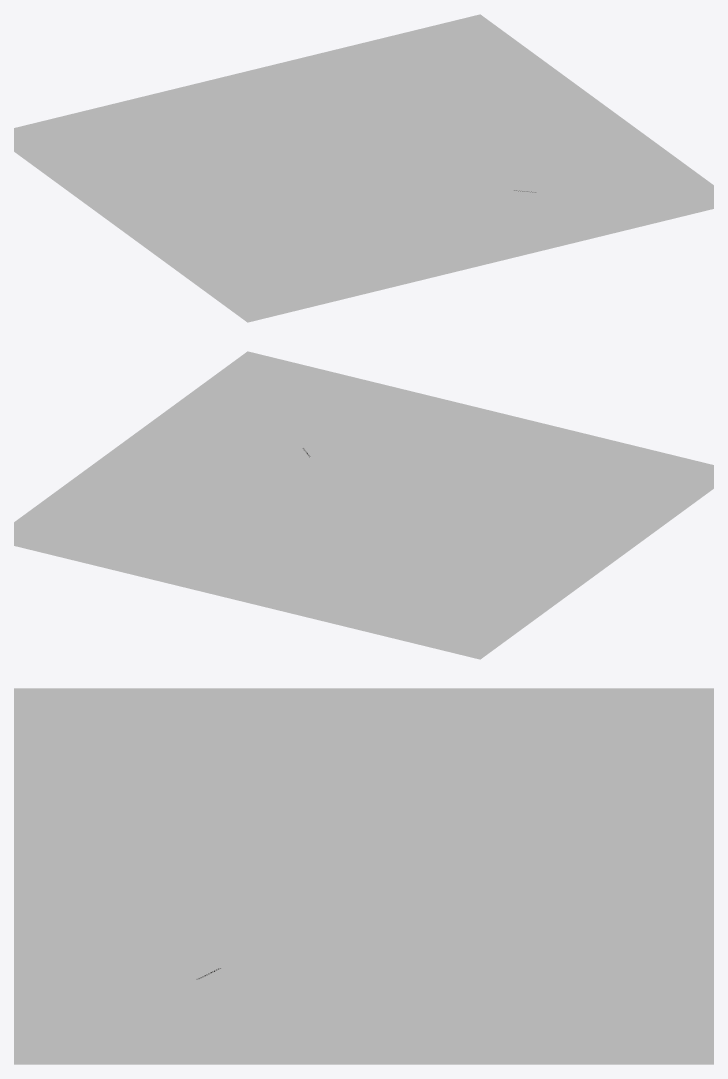
File: 2022_september_pro_cw.dae
3 views of the same model, one above another, from view 1: azimuth 30°, elevation 25°; view 2: azimuth 150°, elevation 25°; view 3: azimuth 270°, elevation 25° (orthographic). The views are drawn at different scales.
Parts seen in each view (by area): view 1: field, wall, road, ol, il, cl; view 2: field, wall, road, ol, il, cl; view 3: field, wall, road, il, ol, cl.
Boxes of the visible parts, x1,y1,x2,y2 form: field: (38, 38, 689, 298); wall: (14, 14, 713, 322); road: (113, 67, 537, 269); ol: (136, 77, 513, 258); il: (111, 66, 539, 269); cl: (124, 72, 526, 263); field: (38, 375, 689, 635); wall: (14, 351, 713, 659); road: (72, 444, 599, 613); ol: (96, 454, 575, 603); il: (70, 443, 600, 614); cl: (84, 449, 587, 608); field: (14, 723, 713, 1029); wall: (14, 688, 713, 1064); road: (46, 737, 681, 1029); il: (43, 736, 684, 1029); ol: (82, 752, 645, 1029); cl: (64, 744, 663, 1029).
Bounding box in the file's own units: 20.72 × 17.98 × 1.
